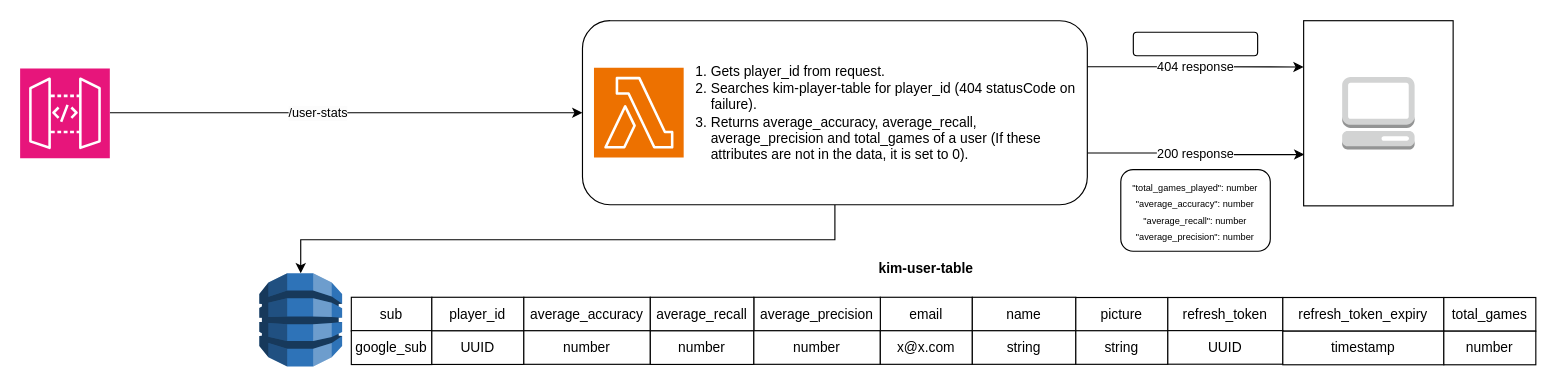
Some shapes in this 1556 by 386 pixel diagram are drawn without their labels. The shapes that lost their labels are listed below. From the top down, each one's box as (x1, y1, x2, y2) in pixels, then its label:
(1132, 31, 1258, 56): "<error message>"
(1341, 76, 1415, 150): Client
